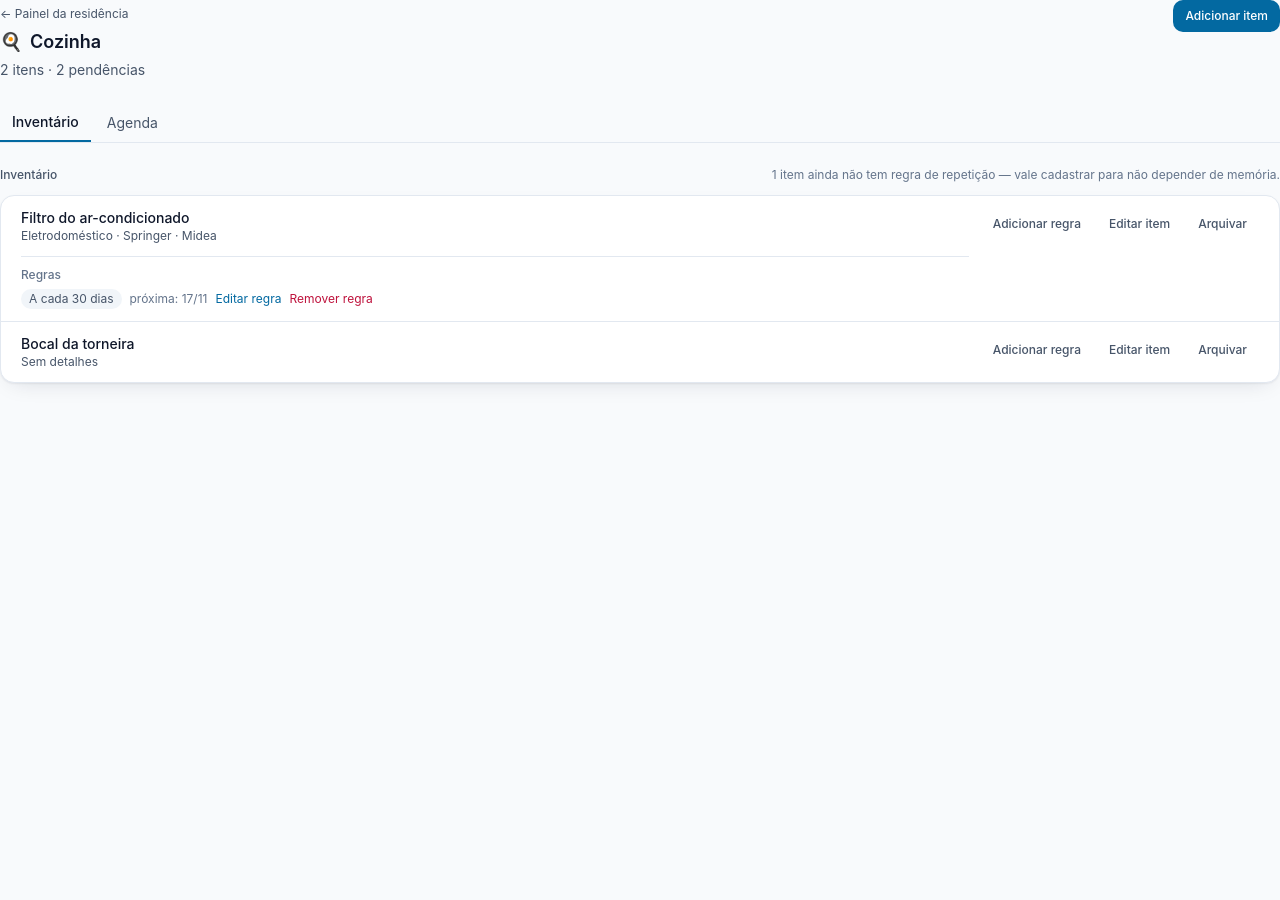
Test: RoomPage › adiciona item pelo modal com o cômodo já escolhido
The image size is (1280, 900).
Step 1. Click the button "Adicionar item" → (1227, 16), box [1173,0,1279,32]
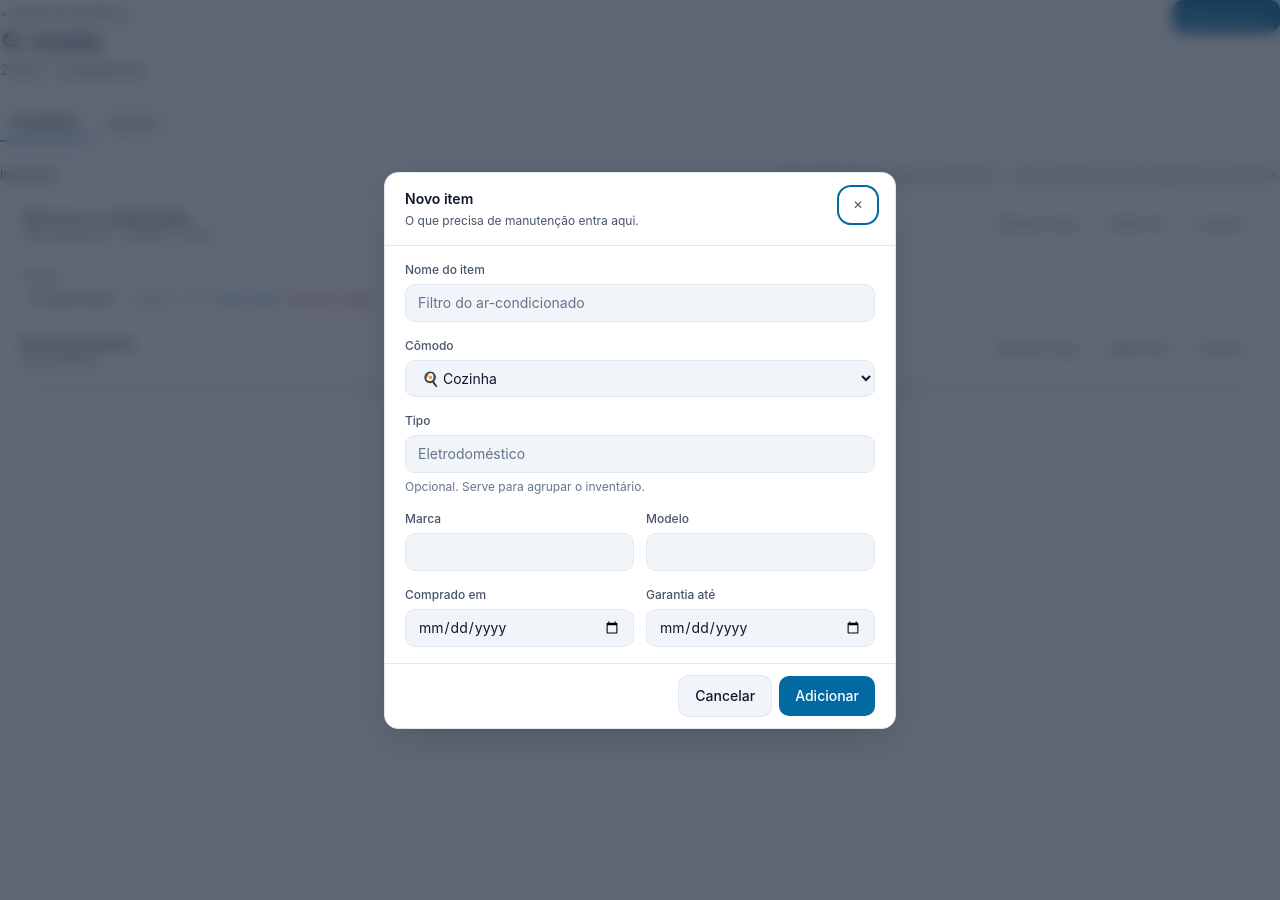
Step 2. Type "Lâmpada do corredor" into the field labelled "Nome do item" → (640, 302), box [405,284,875,322]
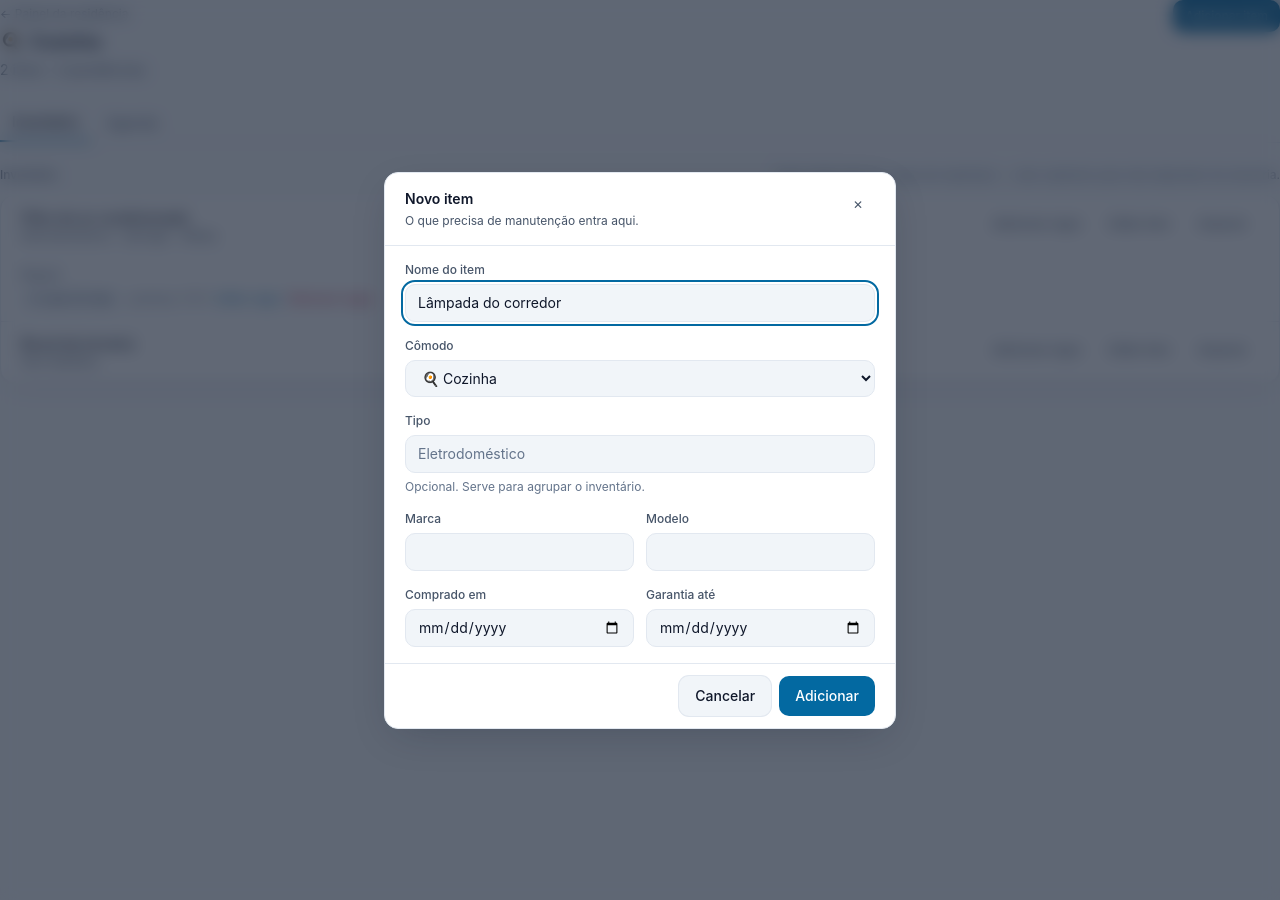
Step 3. Click the button "Adicionar" → (827, 696), box [779,676,875,716]
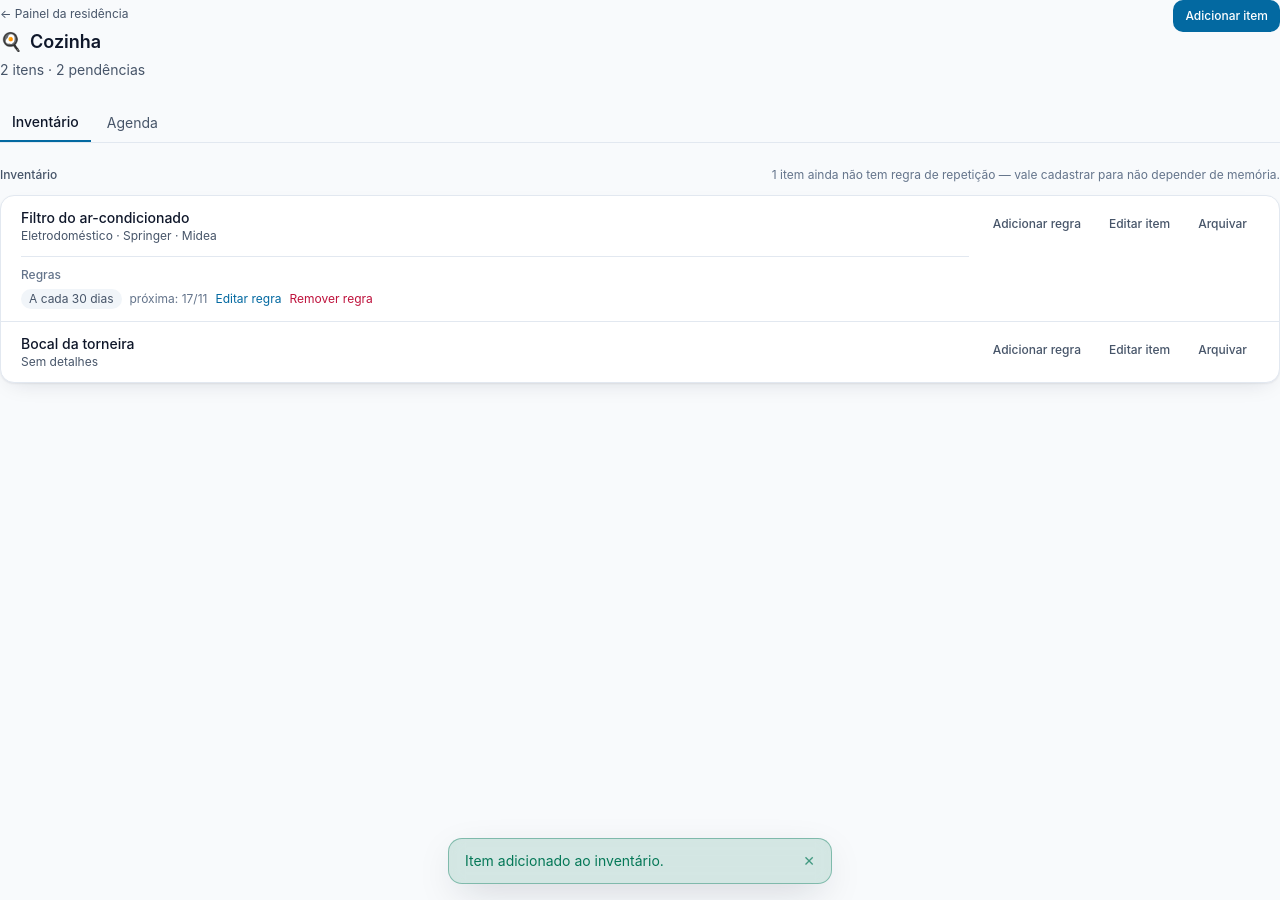
Expected: the text "Item adicionado ao inventário." is shown, [465,851,664,871]
